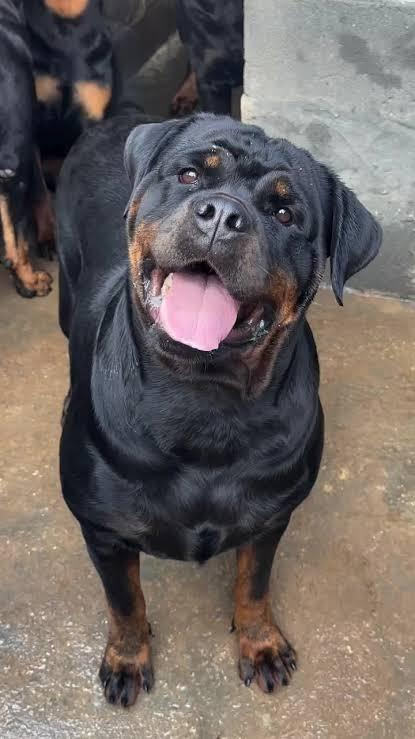adult_dog: (51, 111, 384, 709), (0, 0, 130, 298)
non-dog: (170, 0, 246, 119)
